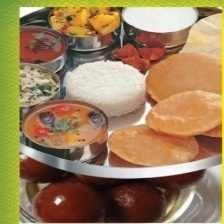rice: (62, 60, 143, 116)
